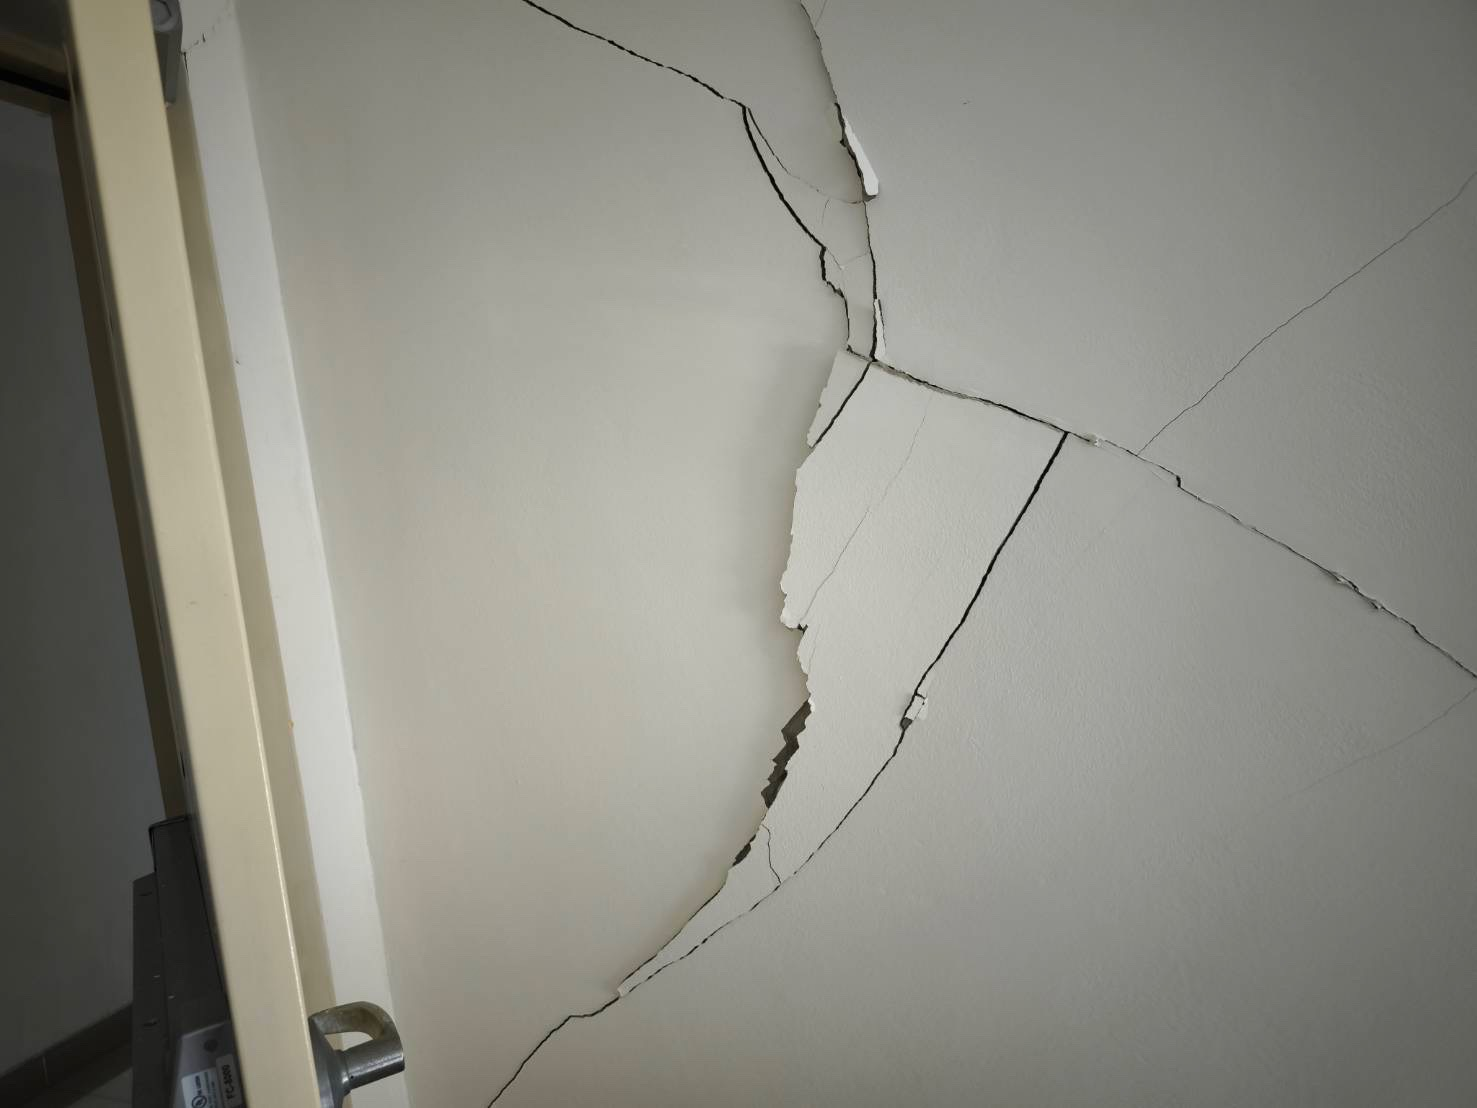Medium: (528, 138, 1130, 965)
